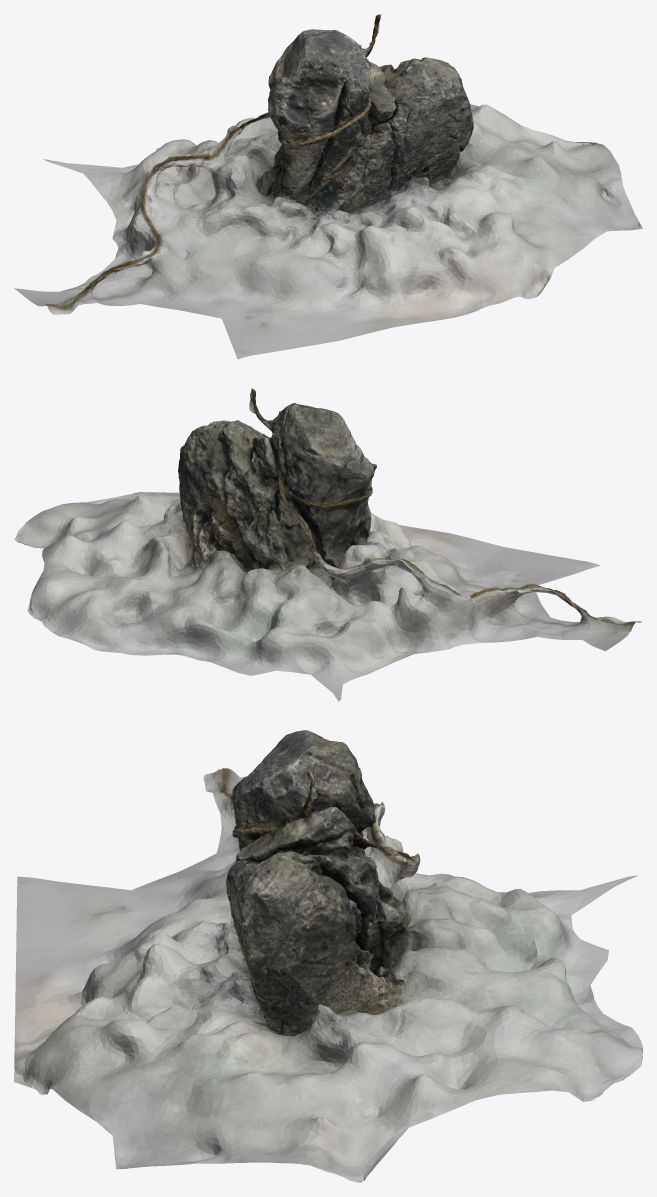
The model's file is cloud_dog.glb.
3 views of the same model, one above another, from view 1: azimuth 30°, elevation 25°; view 2: azimuth 150°, elevation 25°; view 3: azimuth 270°, elevation 25° (orthographic). The views are drawn at different scales.
Bounding box in the file's own units: 0.4436 × 0.1518 × 0.3048.
1 material, 1 textured.
